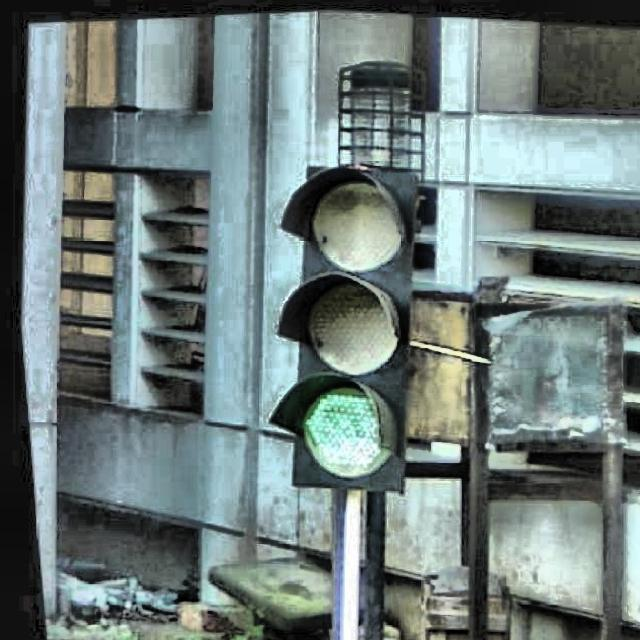green: (248, 156, 433, 494)
